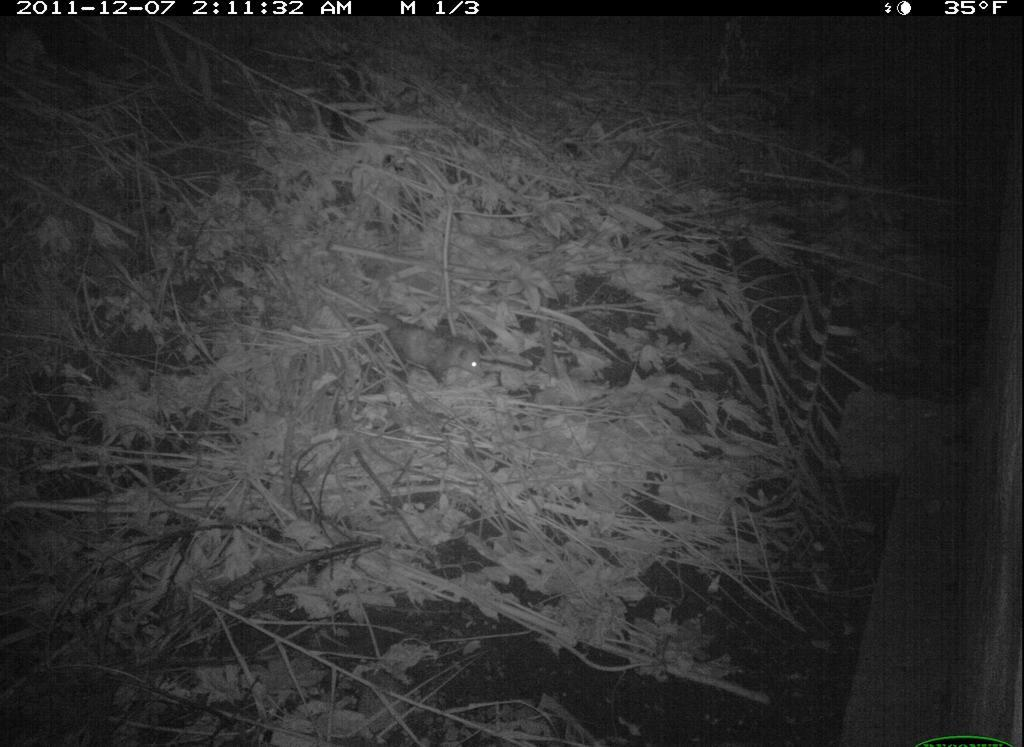opossum: (373, 303, 505, 390)
